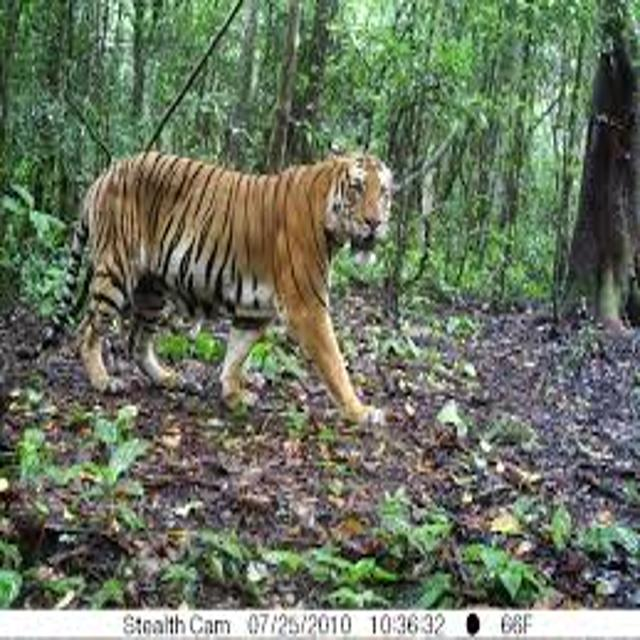tiger: (4, 120, 447, 467)
